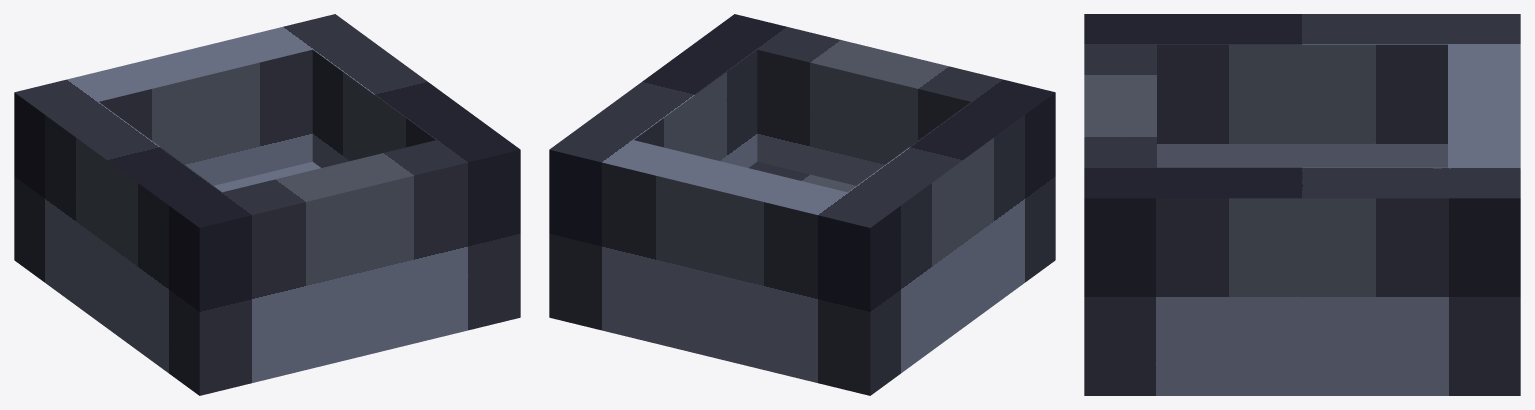
Rendered from light_bulb_empty.glb.
3 renders of one model, left to right at view 1: azimuth 30°, elevation 25°; view 2: azimuth 150°, elevation 25°; view 3: azimuth 270°, elevation 25°, orthographic. The views are drawn at different scales.
Parts seen in each view (by area): view 1: Housing_and_Socket; view 2: Housing_and_Socket; view 3: Housing_and_Socket.
Part boxes in pixels (x1=…): Housing_and_Socket: x1=14, y1=14, x2=520, y2=395; Housing_and_Socket: x1=549, y1=14, x2=1055, y2=395; Housing_and_Socket: x1=1084, y1=14, x2=1520, y2=395.
Bounding box in the file's own units: 0.1688 × 0.0844 × 0.1688.
Materials: 1 (1 with a texture image).
